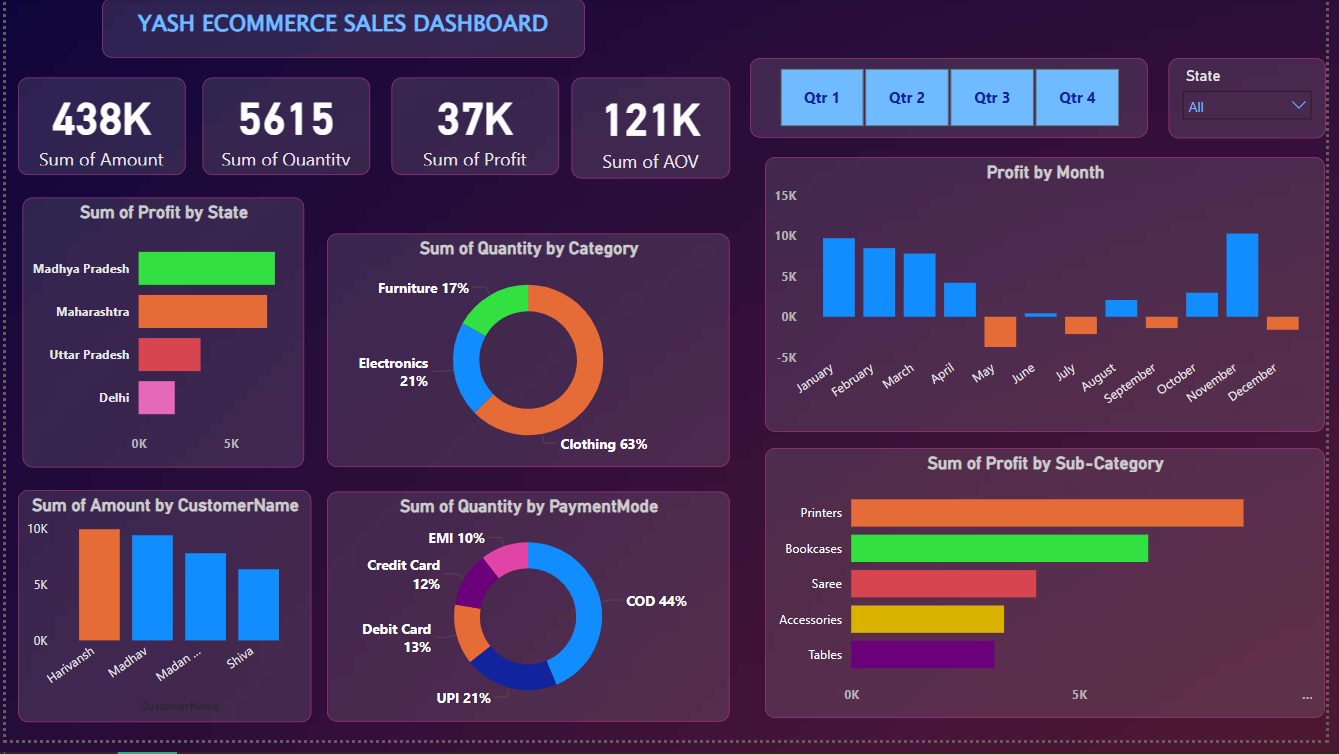

Layout of this report page (visuals, bound fields, positions):
{"tool":"powerbi","page":{"name":"Page 1","canvas":[1280,720],"ordinal":0},"visuals":[{"type":"textbox","box":[93.2,0,468.7,58.2],"z":0},{"type":"columnChart","title":"Profit by Month","fields":{"Y":["Details.Profit"],"Category":["Orders.Order Date.Variation.Date Hierarchy.Month"]},"box":[737.1,154.1,543.3,266.7],"z":1000},{"type":"barChart","fields":{"Category":["Details.Sub-Category"],"Y":["Details.Profit"]},"box":[737.1,437.3,543.3,261.7],"z":2000},{"type":"donutChart","fields":{"Category":["Details.Category"],"Y":["Details.Quantity"]},"box":[311.4,228.6,390.9,226.9],"z":3000},{"type":"donutChart","fields":{"Y":["Details.Quantity"],"Category":["Details.PaymentMode"]},"box":[311.4,478.7,390.9,223.6],"z":4000},{"type":"card","fields":{"Values":["Details.Amount"]},"box":[11.6,77.9,162.3,94.4],"z":5000},{"type":"card","fields":{"Values":["Details.Quantity"]},"box":[190.5,77.9,162.3,94.4],"z":6000},{"type":"card","fields":{"Values":["Details.Profit"]},"box":[374.4,77.9,162.3,94.4],"z":7000},{"type":"card","fields":{"Values":["Details.AOV"]},"box":[548.3,77.9,154.1,97.7],"z":8000},{"type":"barChart","fields":{"Y":["Details.Profit"],"Category":["Orders.State"]},"box":[16.6,193.8,273.3,261.7],"z":9000},{"type":"columnChart","fields":{"Category":["Orders.CustomerName"],"Y":["Details.Amount"]},"box":[11.6,477.1,284.9,225.3],"z":10000},{"type":"slicer","fields":{"Values":["Orders.Order Date.Variation.Date Hierarchy.Quarter"]},"box":[722,58.2,385.7,77.1],"z":11000},{"type":"slicer","fields":{"Values":["Orders.State"]},"box":[1128.1,58,152.4,77.9],"z":12000}]}

Visuals, with their boxes in screenshot pixels (x1, y1, x2, y2), scaled from the page's 1280x720 canvas onto the 1339x754 screenshot:
textbox: box(97, 0, 588, 61)
"Profit by Month" columnChart: box(771, 161, 1338, 441)
barChart - Details.Sub-Category x Details.Profit: box(771, 458, 1338, 732)
donutChart - Details.Category x Details.Quantity: box(326, 239, 735, 477)
donutChart - Details.Quantity x Details.PaymentMode: box(326, 501, 735, 735)
card - Details.Amount: box(12, 82, 182, 180)
card - Details.Quantity: box(199, 82, 369, 180)
card - Details.Profit: box(392, 82, 561, 180)
card - Details.AOV: box(574, 82, 735, 184)
barChart - Details.Profit x Orders.State: box(17, 203, 303, 477)
columnChart - Orders.CustomerName x Details.Amount: box(12, 500, 310, 736)
slicer - Orders.Order Date.Variation.Date Hierarchy.Quarter: box(755, 61, 1159, 142)
slicer - Orders.State: box(1180, 61, 1338, 142)
